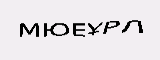Ұ: (86, 19, 102, 39)
